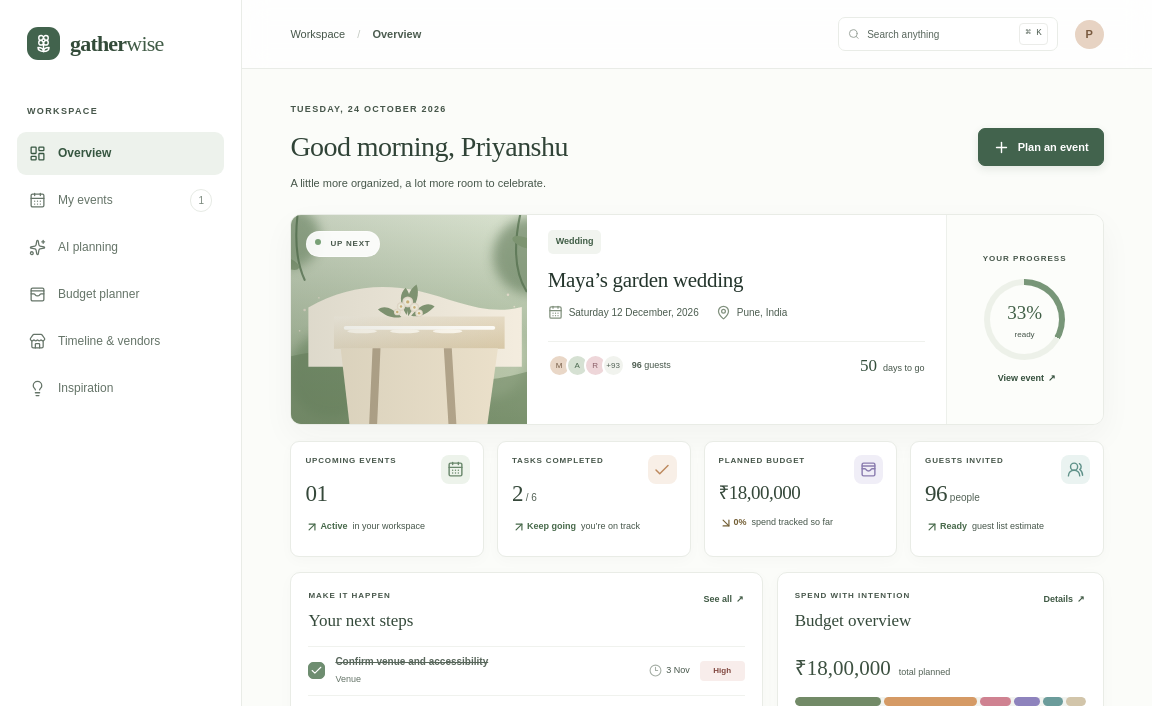
planner workspace › validates bad event submissions and then saves the corrected event
Click the button "Plan an event" at (1041, 147), box [978,128,1104,166]
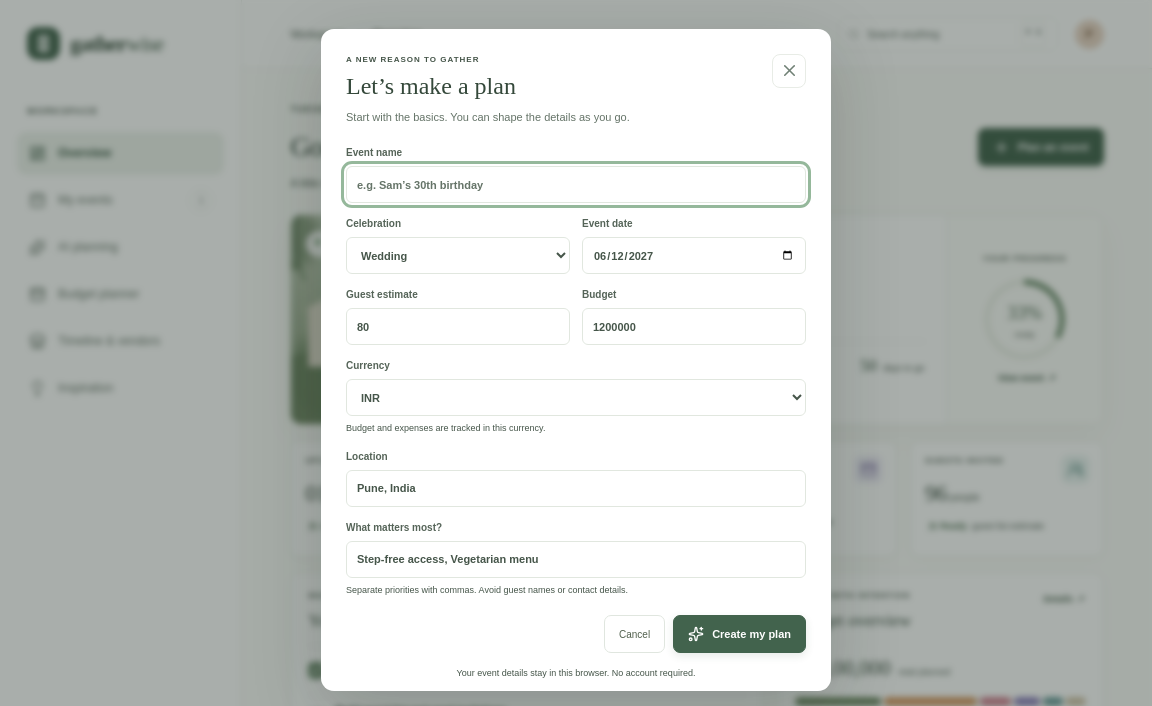
Type "A" into the field labelled "Event name" at (576, 185), box [346,166,806,203]
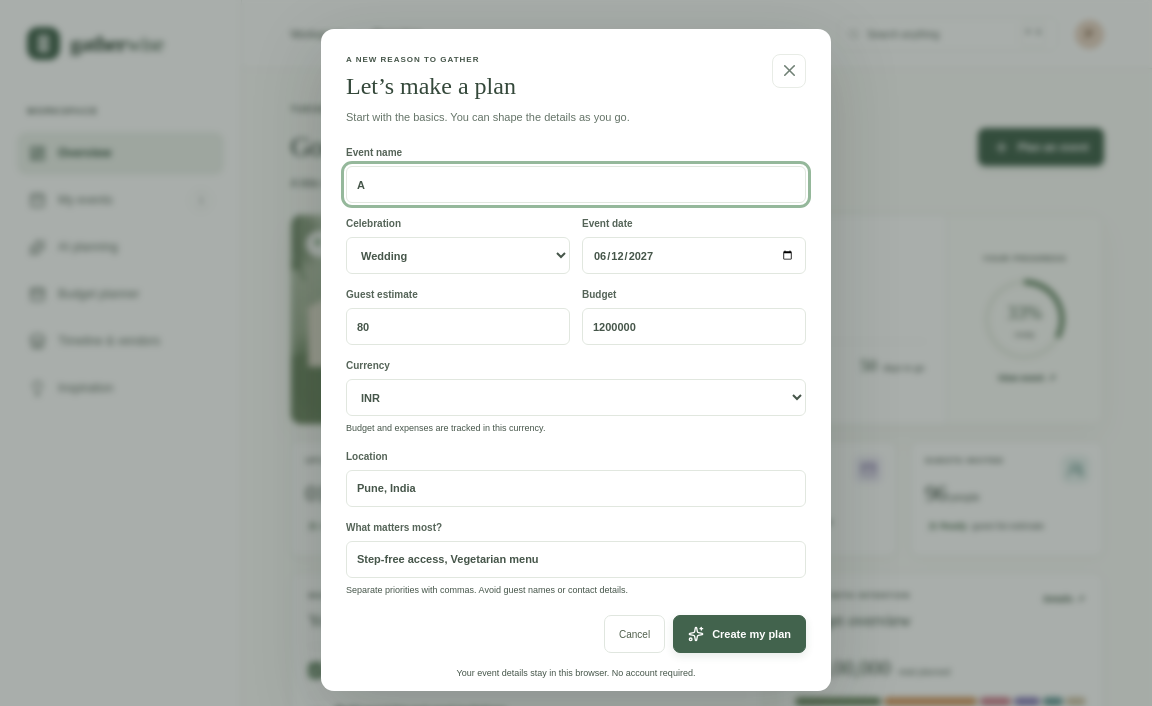
Click the button "Create my plan" at (740, 634), box [673,615,806,653]
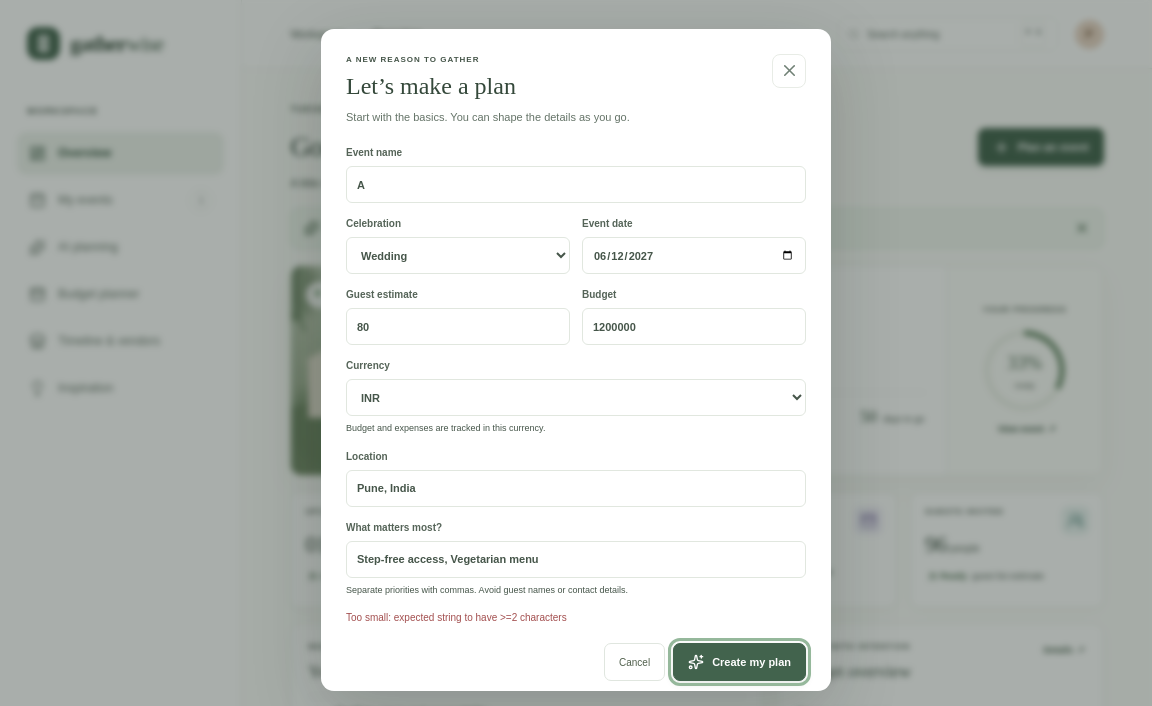
Expected: the message "Too small: expected string to have >=2 characters" below "Good morning, Priyanshu" is shown, [329,222,572,234]
Replace the text in the field labelled "Event name" with "Asha’s anniversary" at (576, 185), box [346,166,806,203]
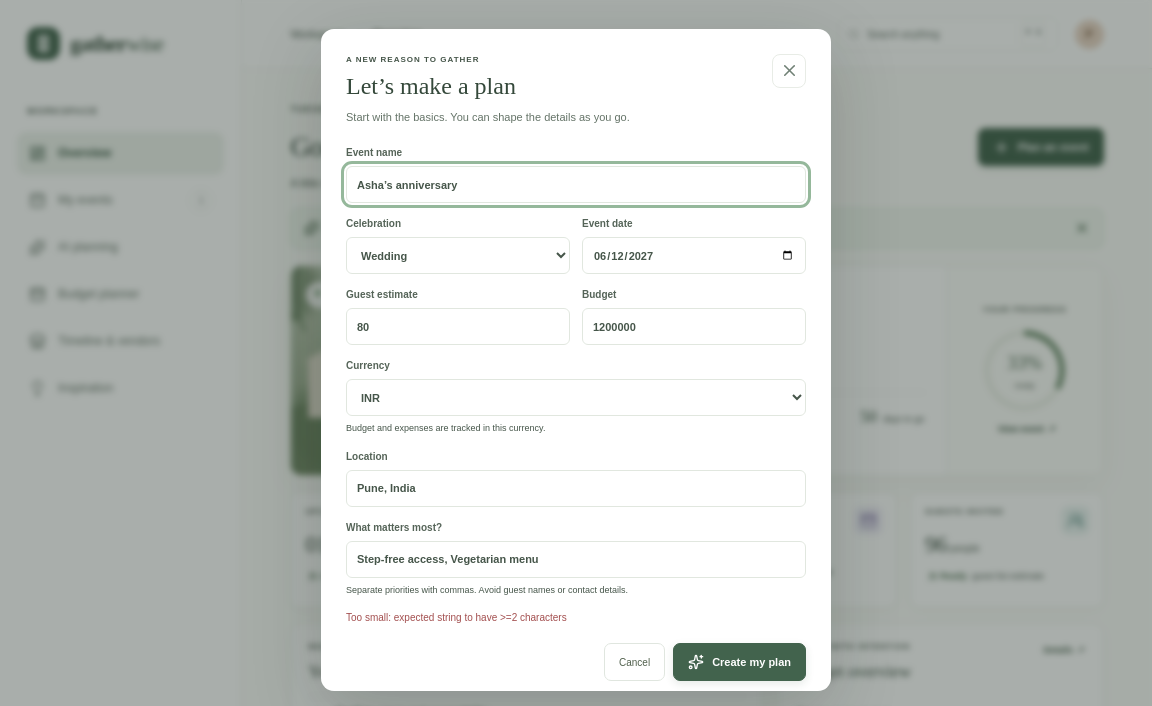
Click the button "Create my plan" at (740, 662), box [673,643,806,681]
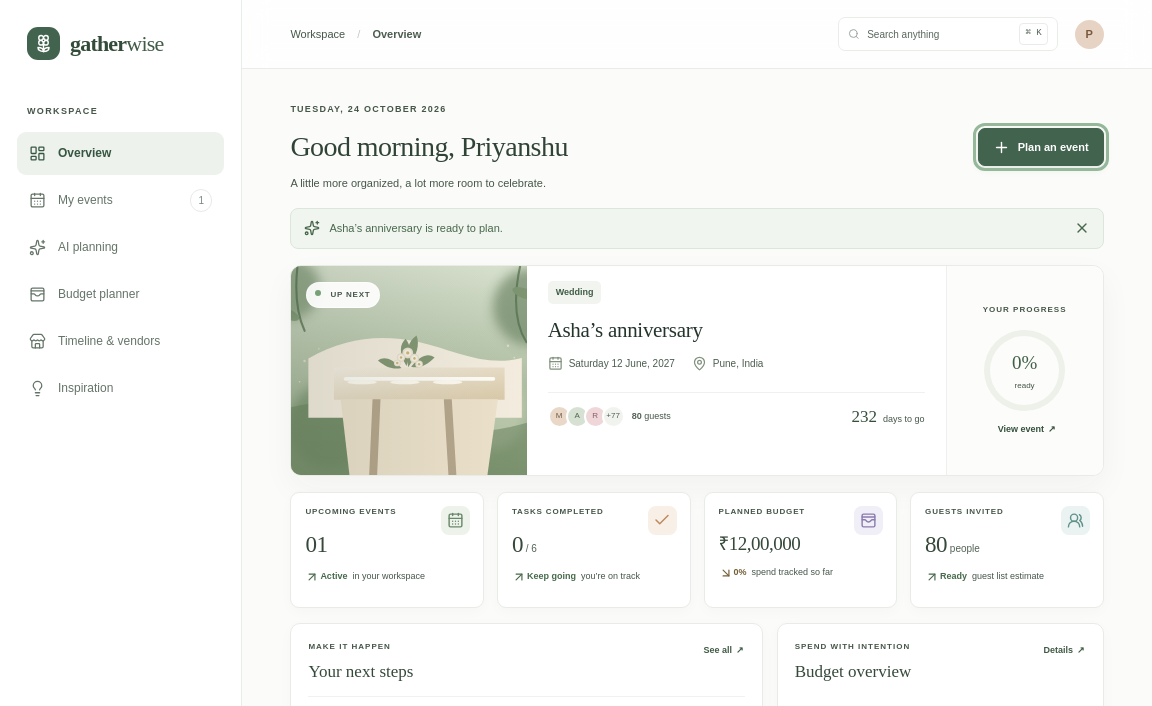
Now the heading "Asha’s anniversary" is shown, box [548,318,703,342]
